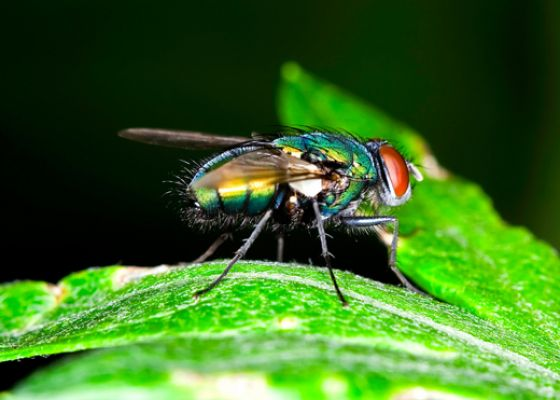green bottles flies: (107, 109, 431, 310)
